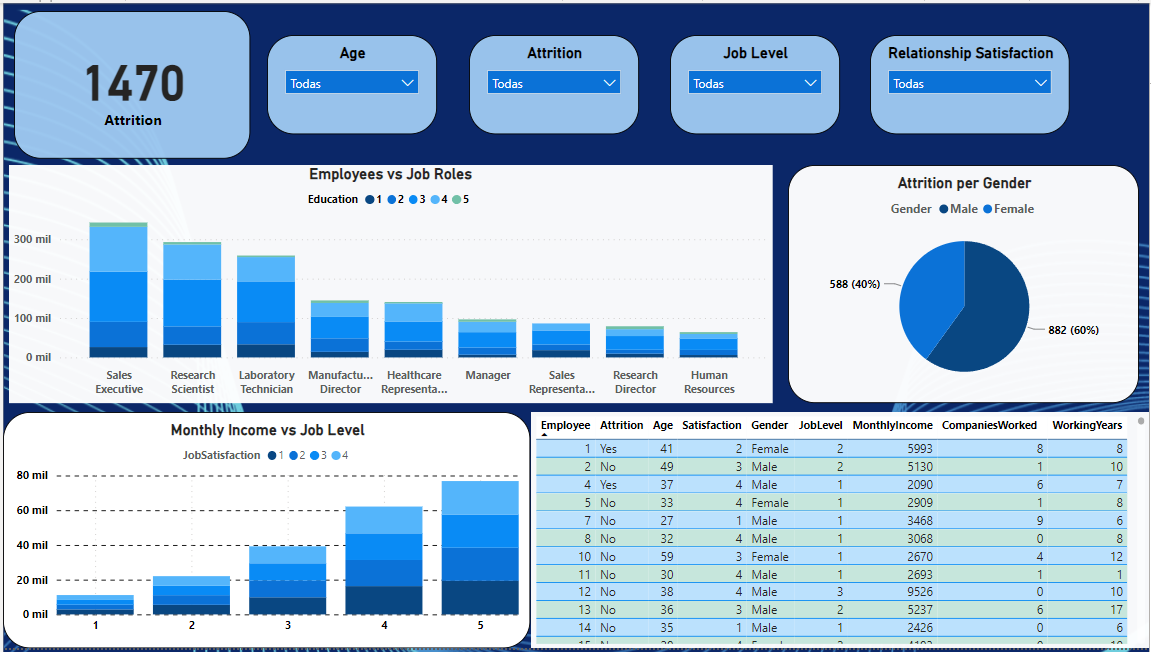

The page's visual inventory and layout, read from the dashboard file:
{"tool":"powerbi","page":{"name":"Página 1","canvas":[1280,720],"ordinal":0},"visuals":[{"type":"card","fields":{"Values":["CountNonNull(Kaggle-Employee-Attrition.Attrition)"]},"box":[12.1,8.5,264.5,165.4],"z":0},{"type":"columnChart","title":"Monthly Income vs Job Level","fields":{"Category":["Kaggle-Employee-Attrition.JobLevel"],"Y":["Avg(Kaggle-Employee-Attrition.MonthlyIncome)"],"Series":["Kaggle-Employee-Attrition.JobSatisfaction"]},"box":[0,456.5,589.3,264.5],"z":1000},{"type":"slicer","title":"Age","fields":{"Values":["Kaggle-Employee-Attrition.Age"]},"box":[294.6,36.2,189.6,111.1],"z":2000},{"type":"pieChart","title":"Attrition per Gender","fields":{"Y":["CountNonNull(Kaggle-Employee-Attrition.Attrition)"],"Category":["Kaggle-Employee-Attrition.Gender"]},"box":[876.7,181.1,392.5,265.7],"z":3000},{"type":"tableEx","fields":{"Values":["Kaggle-Employee-Attrition.EmployeeNumber","Kaggle-Employee-Attrition.Attrition","Kaggle-Employee-Attrition.Age","Kaggle-Employee-Attrition.EnvironmentSatisfaction","Kaggle-Employee-Attrition.Gender","Kaggle-Employee-Attrition.JobLevel","Kaggle-Employee-Attrition.MonthlyIncome","Kaggle-Employee-Attrition.NumCompaniesWorked","Kaggle-Employee-Attrition.TotalWorkingYears"]},"box":[589.3,456.5,690.7,264.5],"z":4000},{"type":"slicer","title":"Attrition","fields":{"Values":["Kaggle-Employee-Attrition.Attrition"]},"box":[520.5,36.2,189.6,111.1],"z":5000},{"type":"columnChart","title":"Employees vs Job Roles","fields":{"Category":["Kaggle-Employee-Attrition.JobRole"],"Series":["Kaggle-Employee-Attrition.Education"],"Y":["Sum(Kaggle-Employee-Attrition.EmployeeNumber)"]},"box":[7.2,181.1,852.5,265.7],"z":6000},{"type":"slicer","title":"Job Level","fields":{"Values":["Kaggle-Employee-Attrition.JobLevel"]},"box":[745.1,36.2,189.6,111.1],"z":6001},{"type":"slicer","title":"Relationship Satisfaction","fields":{"Values":["Kaggle-Employee-Attrition.RelationshipSatisfaction"]},"box":[968.5,36.2,223.4,111.1],"z":6002}]}

Visuals, with their boxes in screenshot pixels (x1, y1, x2, y2), scaled from the page's 1280x720 canvas onto the 1151x657 screenshot:
card - CountNonNull(Kaggle-Employee-Attrition.Attrition): 11/8/249/159
"Monthly Income vs Job Level" columnChart: 0/417/530/656
"Age" slicer: 265/33/435/134
"Attrition per Gender" pieChart: 788/165/1141/408
tableEx - Kaggle-Employee-Attrition.EmployeeNumber x Kaggle-Employee-Attrition.Attrition: 530/417/1150/656
"Attrition" slicer: 468/33/639/134
"Employees vs Job Roles" columnChart: 6/165/773/408
"Job Level" slicer: 670/33/840/134
"Relationship Satisfaction" slicer: 871/33/1072/134
